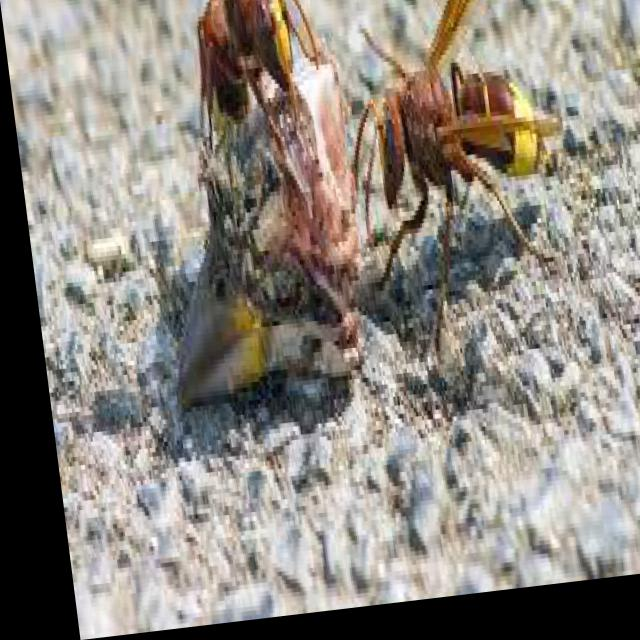Vespa Orientalis: (319, 0, 582, 350), (163, 0, 343, 231)
